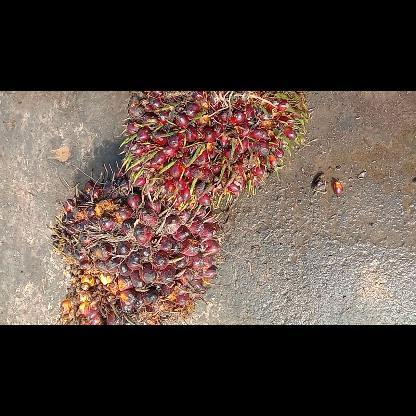Kurang masak: (118, 91, 306, 216)
TBS masak: (51, 168, 225, 324)
